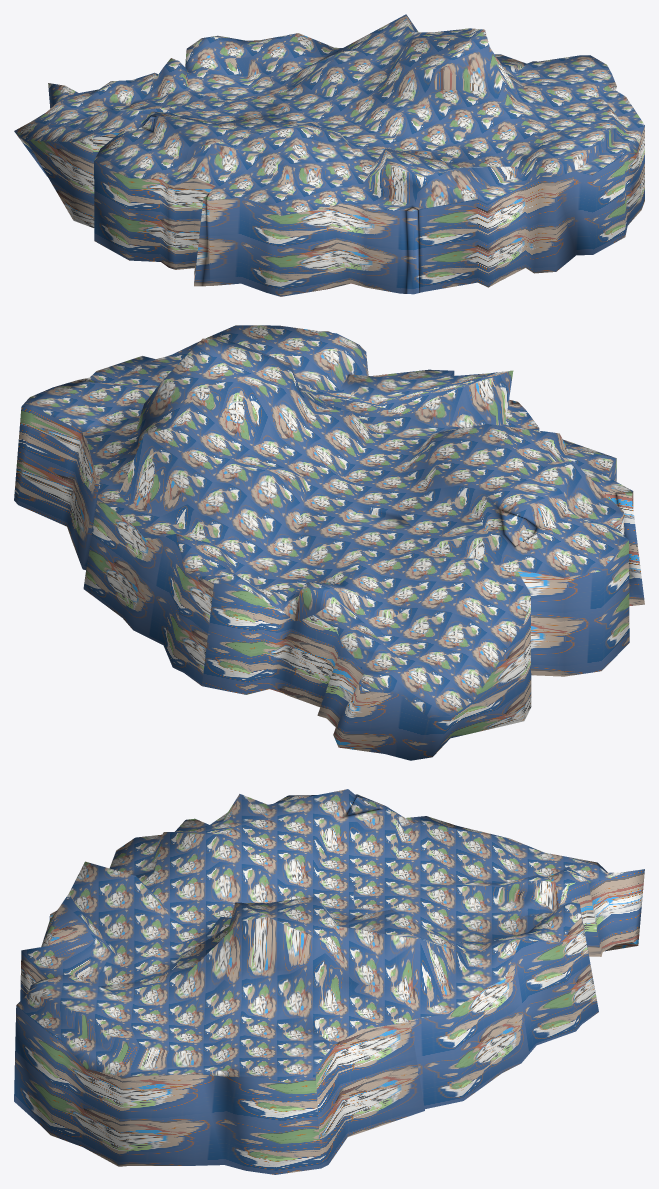
Rendered from rockyPath.fbx.
3 renders of one model, top to bottom at view 1: azimuth 30°, elevation 25°; view 2: azimuth 150°, elevation 25°; view 3: azimuth 270°, elevation 25°, orthographic. The views are drawn at different scales.
Visible parts, largest first — view 1: rockyPath; view 2: rockyPath; view 3: rockyPath.
Part boxes in pixels (box(x1,y1,x2,y2)): rockyPath: box(14, 14, 644, 296); rockyPath: box(14, 325, 644, 760); rockyPath: box(14, 789, 644, 1174).
Size of the model in its own units: 22947 by 7385 by 20873.
